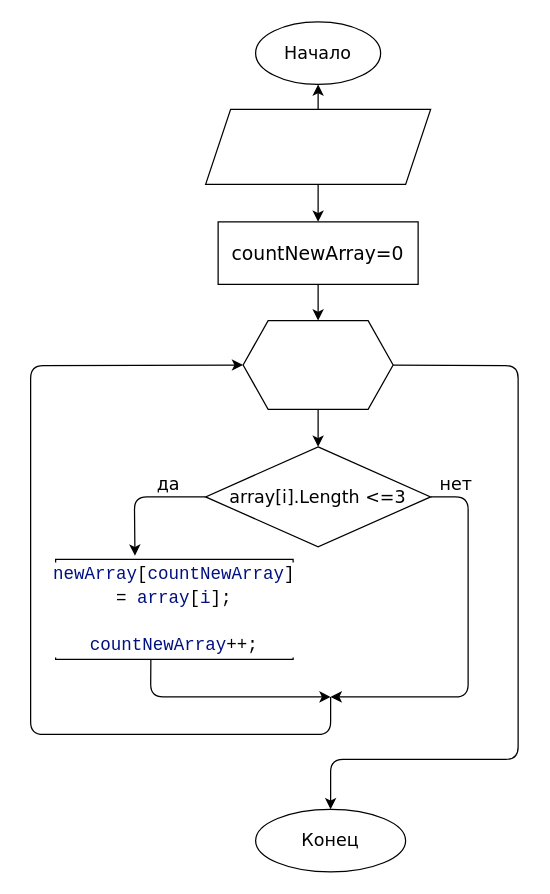
Image size: 550x894. Some labels were removed from this diagram. The shapes that lost their labels are listed below. From the top down, each one's centre as x and y in pixels, then its label:
(317,146): string [ ] Arrray string [ ] NewArray
(317,364): i=0, array.Length, 1
